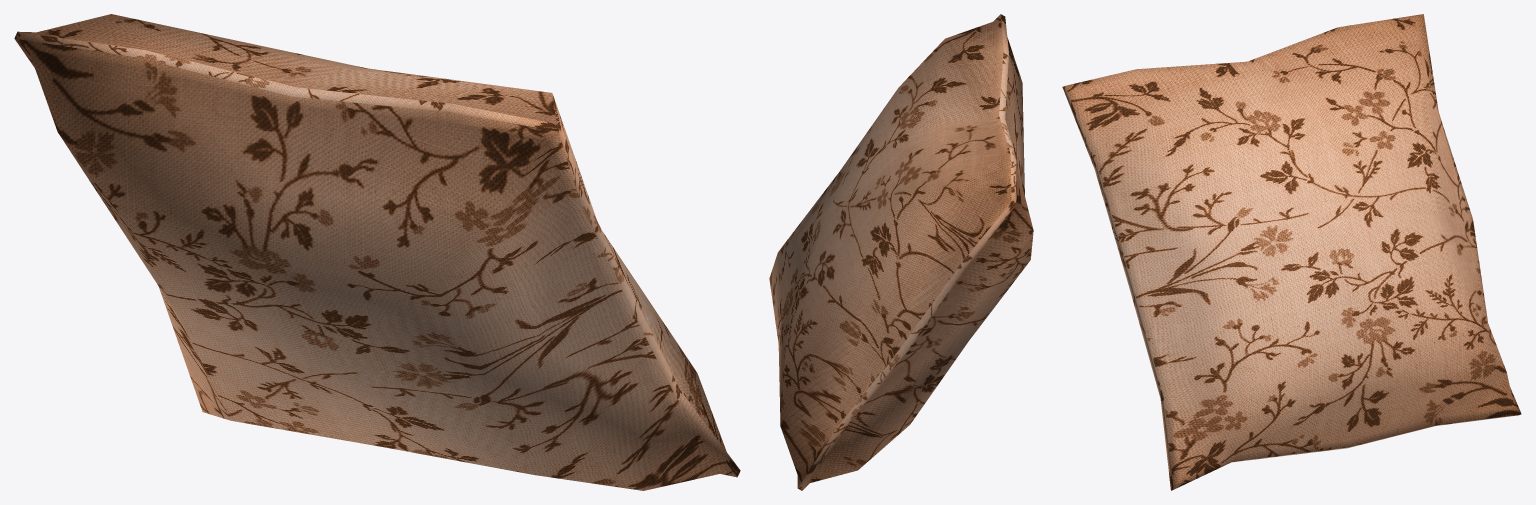
File: SofaSetCushionFloral.FBX
The picture shows the model from 3 angles, left to right: view 1: azimuth 30°, elevation 25°; view 2: azimuth 150°, elevation 25°; view 3: azimuth 270°, elevation 25°; orthographic projection. The views are drawn at different scales.
Parts seen in each view (by area): view 1: Living_Room_Cushion_Floral; view 2: Living_Room_Cushion_Floral; view 3: Living_Room_Cushion_Floral.
Boxes of the visible parts, box(x1,y1,x2,y2) form: Living_Room_Cushion_Floral: box(14, 14, 740, 490); Living_Room_Cushion_Floral: box(769, 14, 1033, 490); Living_Room_Cushion_Floral: box(1062, 14, 1521, 490).
Bounding box in the file's own units: 41.17 × 35.8 × 44.19.
Materials: 1 (1 with a texture image).
